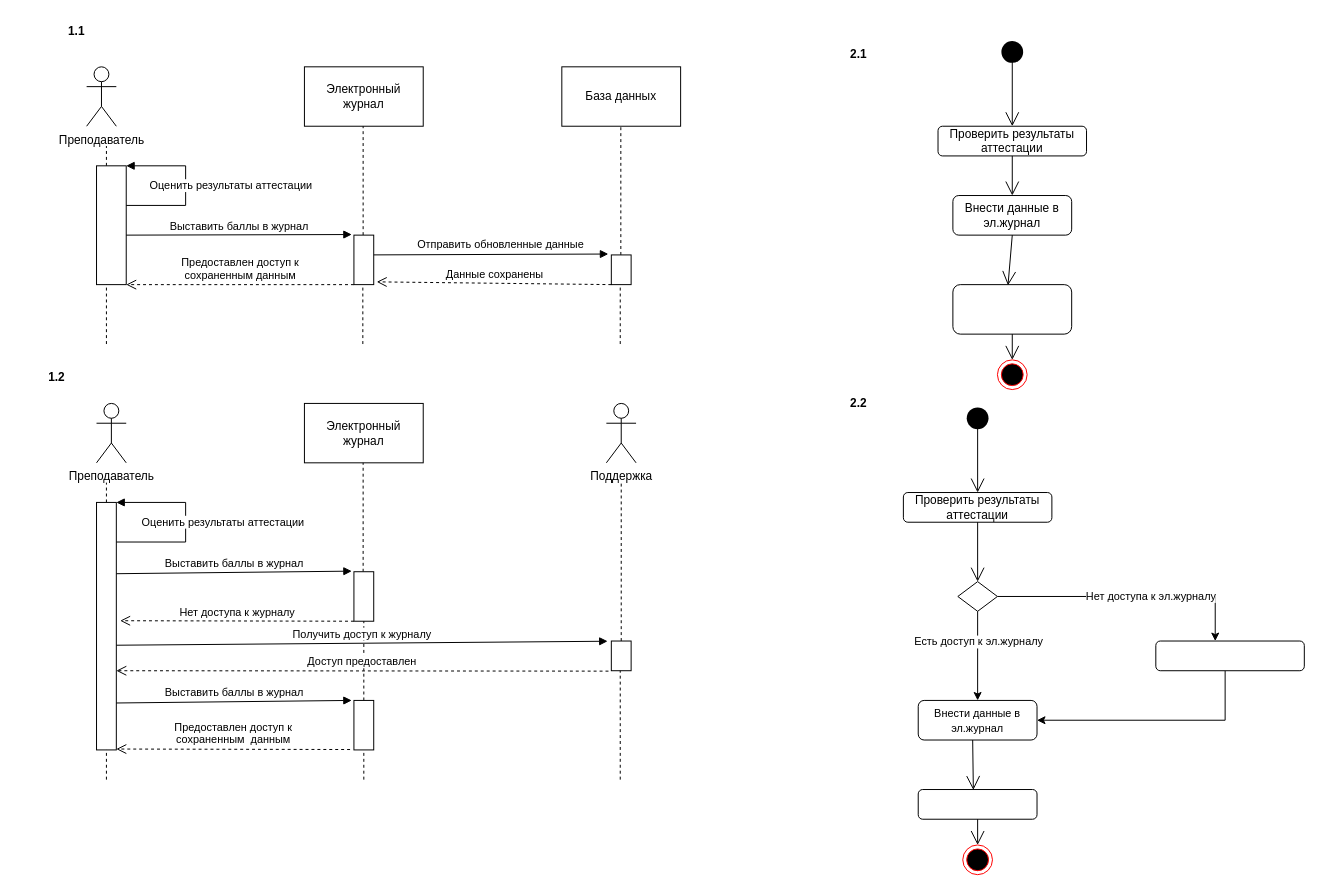
Image size: 1322x892. Some labels were removed from this diagram. The shapes that lost their labels are listed below. From the top down, each one's centre as x and y in pixels, then its label:
(x=1012, y=309): Сохранить изменения в базе данных
(x=1229, y=655): Получить доступ к эл.журналу
(x=977, y=804): Сохранить изменения
